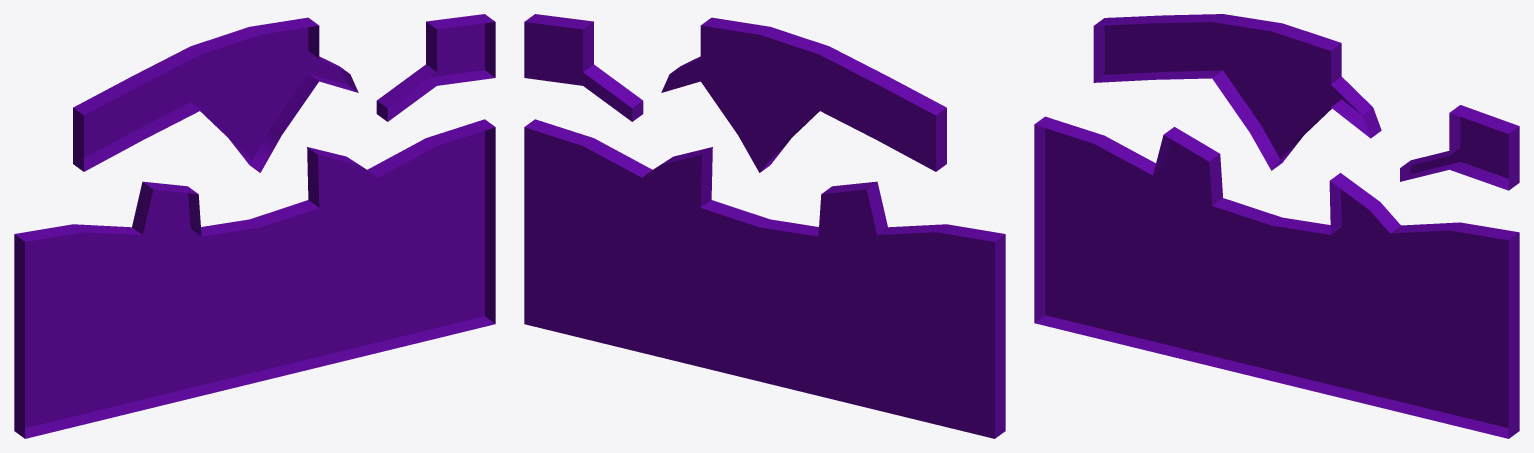
File: sugar_cave_low_res.fbx
3 views of the same model, side by side, from view 1: azimuth 30°, elevation 25°; view 2: azimuth 150°, elevation 25°; view 3: azimuth 330°, elevation 25° (orthographic).
Visible parts, largest first — view 1: Sugar_Cave_Terrain, ground1; view 2: Sugar_Cave_Terrain, ground1; view 3: Sugar_Cave_Terrain, ground1.
Boxes of the visible parts, x1,y1,x2,y2 form: Sugar_Cave_Terrain: (14, 119, 495, 438); ground1: (73, 14, 495, 172); Sugar_Cave_Terrain: (524, 119, 1005, 438); ground1: (524, 14, 946, 172); Sugar_Cave_Terrain: (1034, 116, 1519, 438); ground1: (1093, 14, 1519, 190).
Bounding box in the file's own units: 25 × 17.61 × 1.
